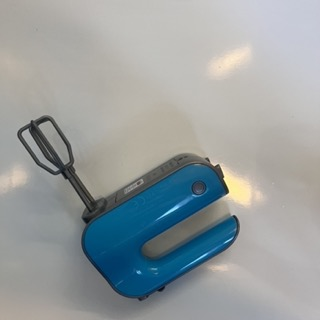mixer: (17, 115, 239, 302)
